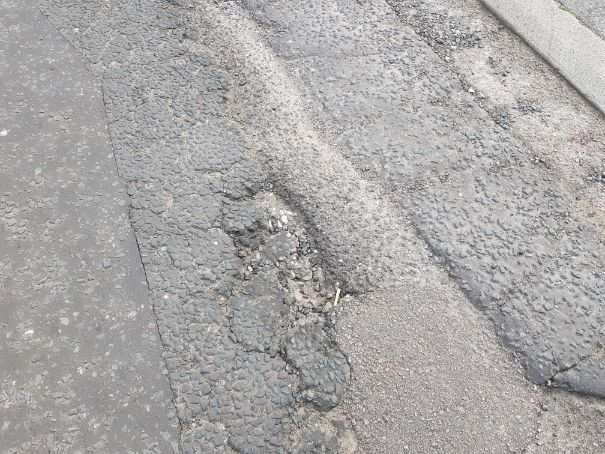pothole: (203, 166, 367, 359)
